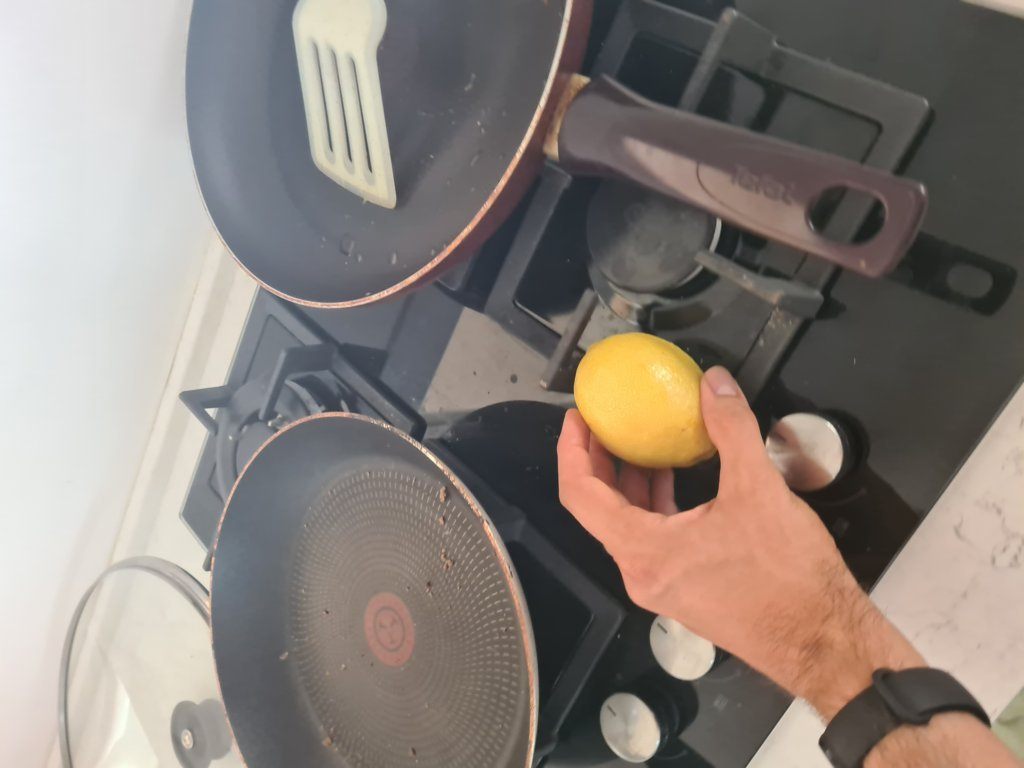lemon: (571, 333, 719, 458)
